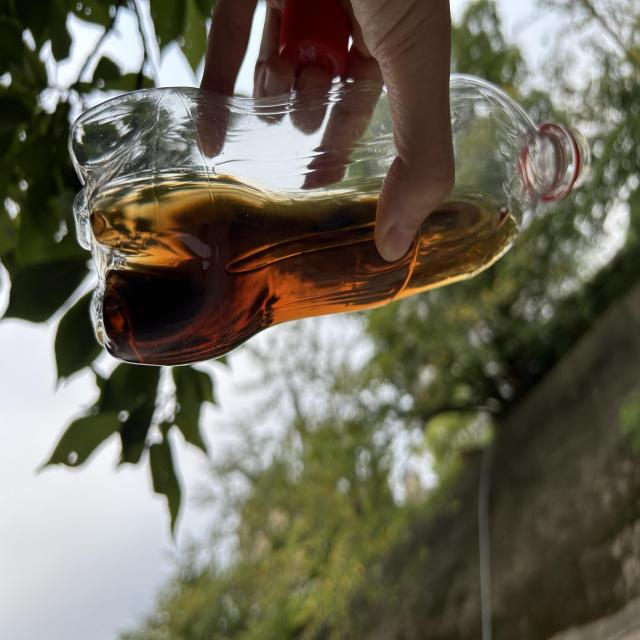medium: (69, 74, 588, 365)
